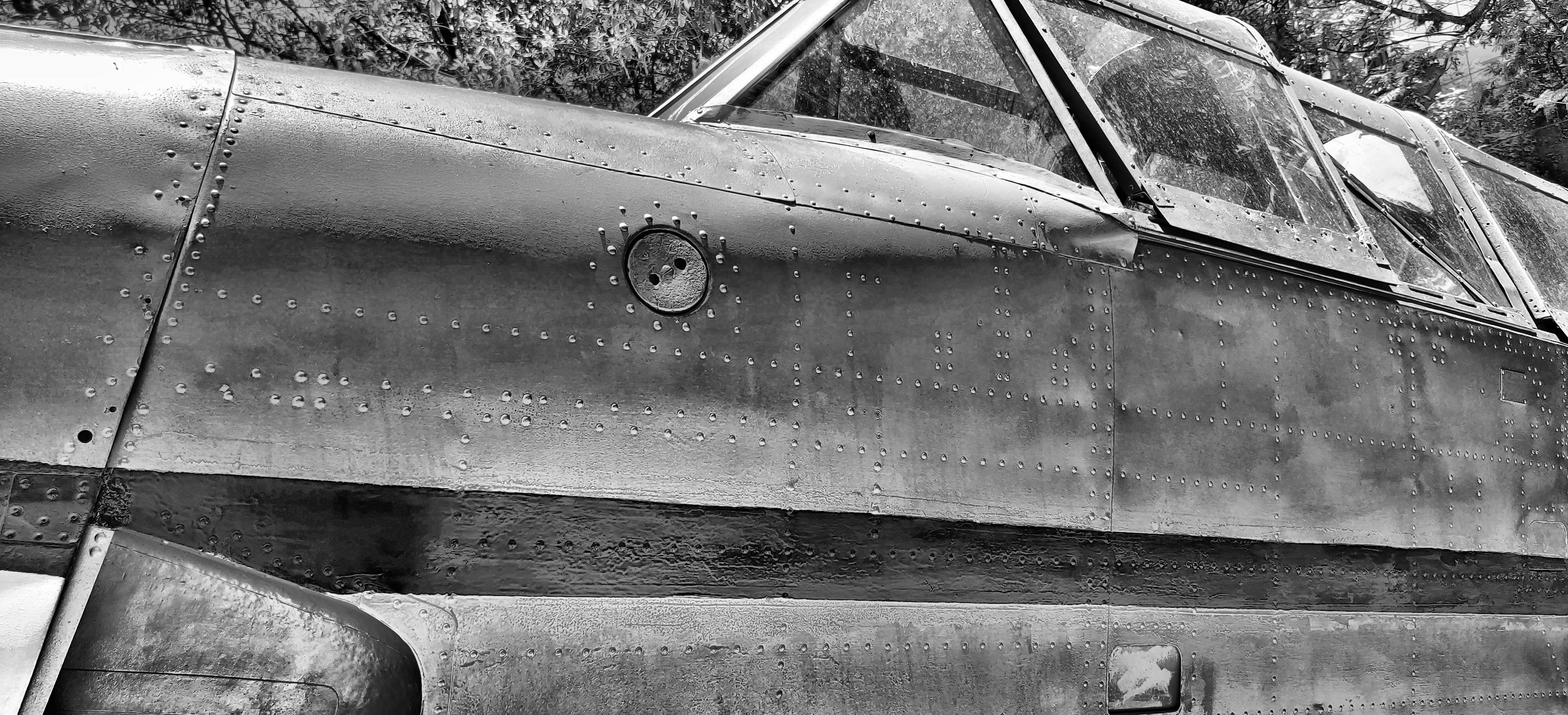missing-head: (144, 296, 153, 305), (109, 405, 118, 414)
paint-peel-off: (1330, 616, 1354, 629)
